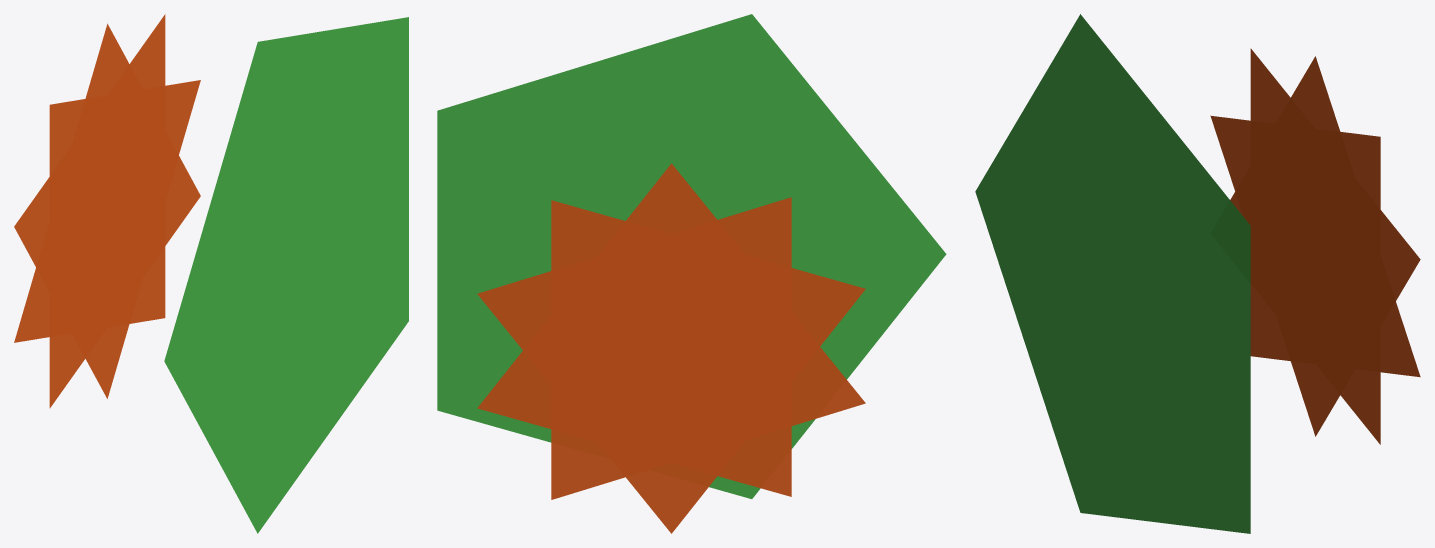
File: SmallStellatedTruncatedDodecahedronF.obj
3 renders of one model, left to right at view 1: azimuth 30°, elevation 25°; view 2: azimuth 150°, elevation 25°; view 3: azimuth 270°, elevation 25°, orthographic. The views are drawn at different scales.
Size of the model in its own units: 1.43 by 1.62 by 1.31.
